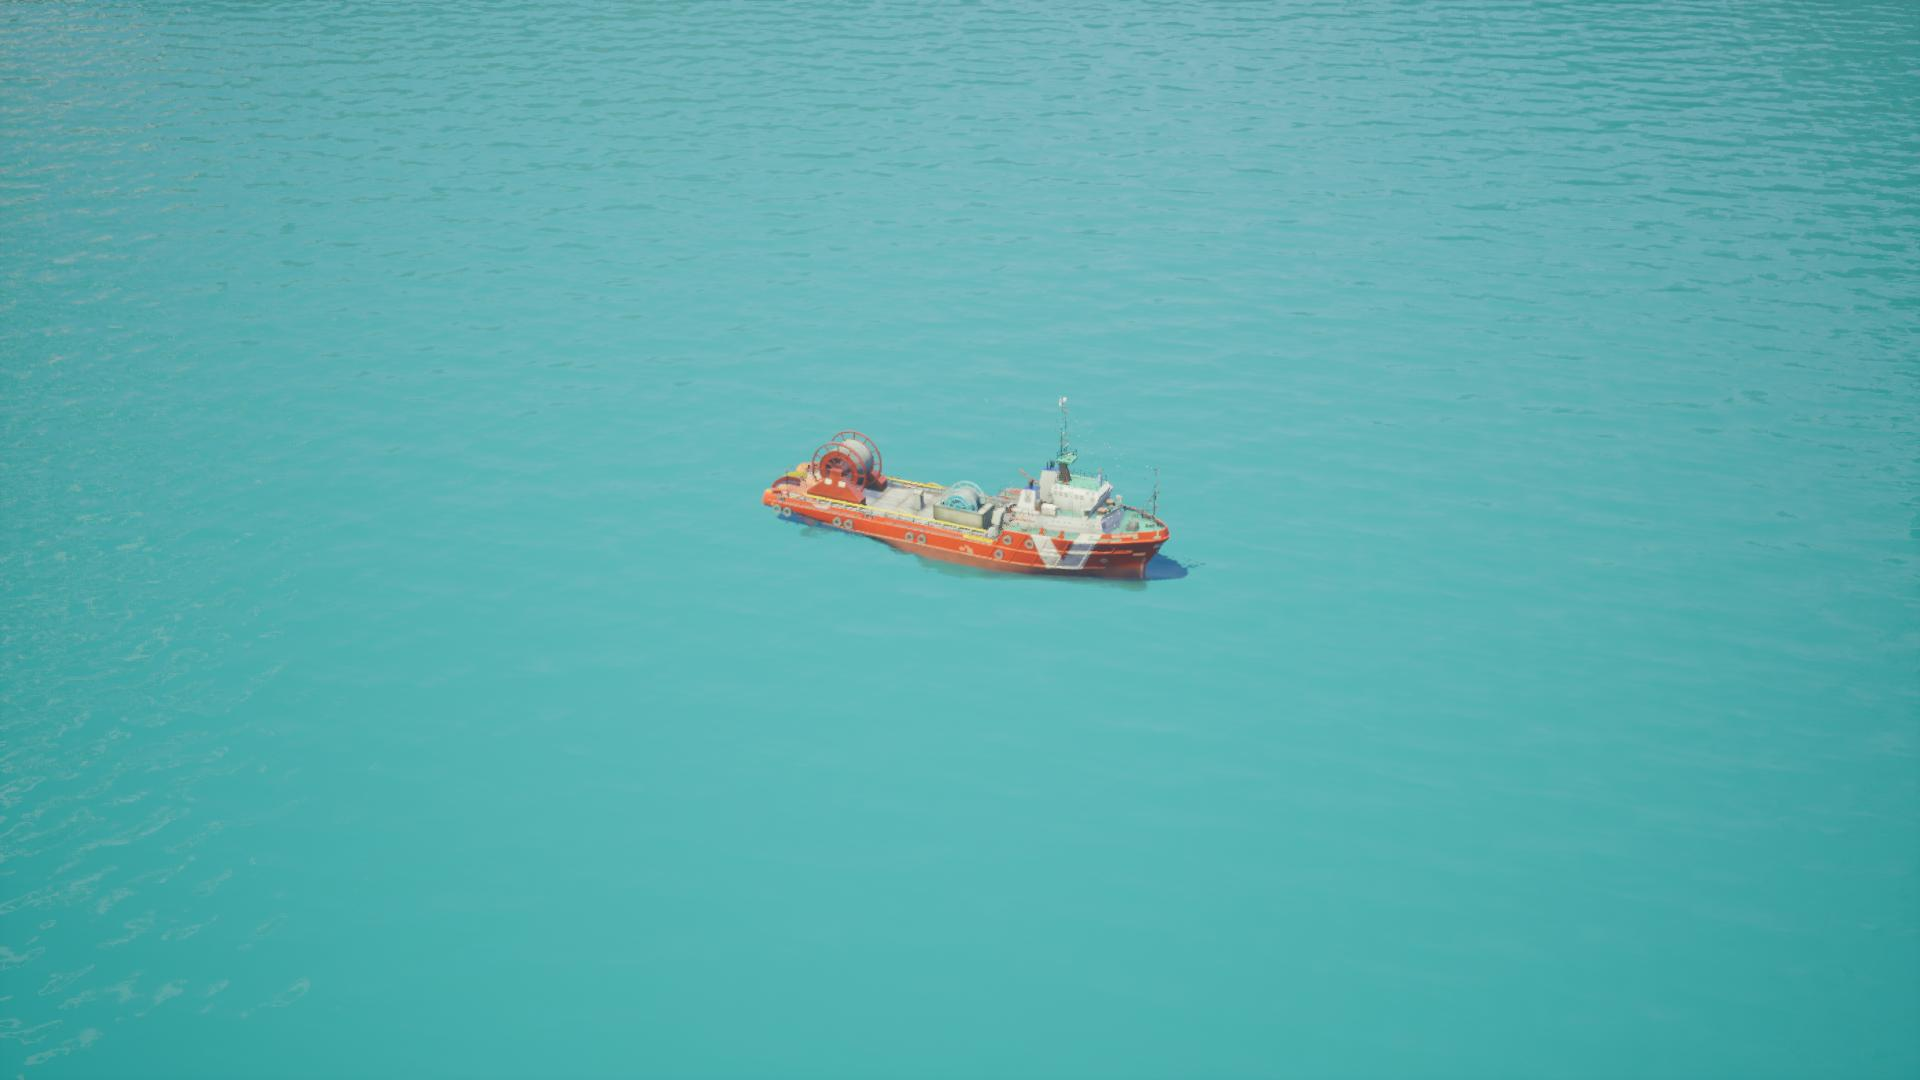Tug Boat: (745, 343, 1232, 688)
